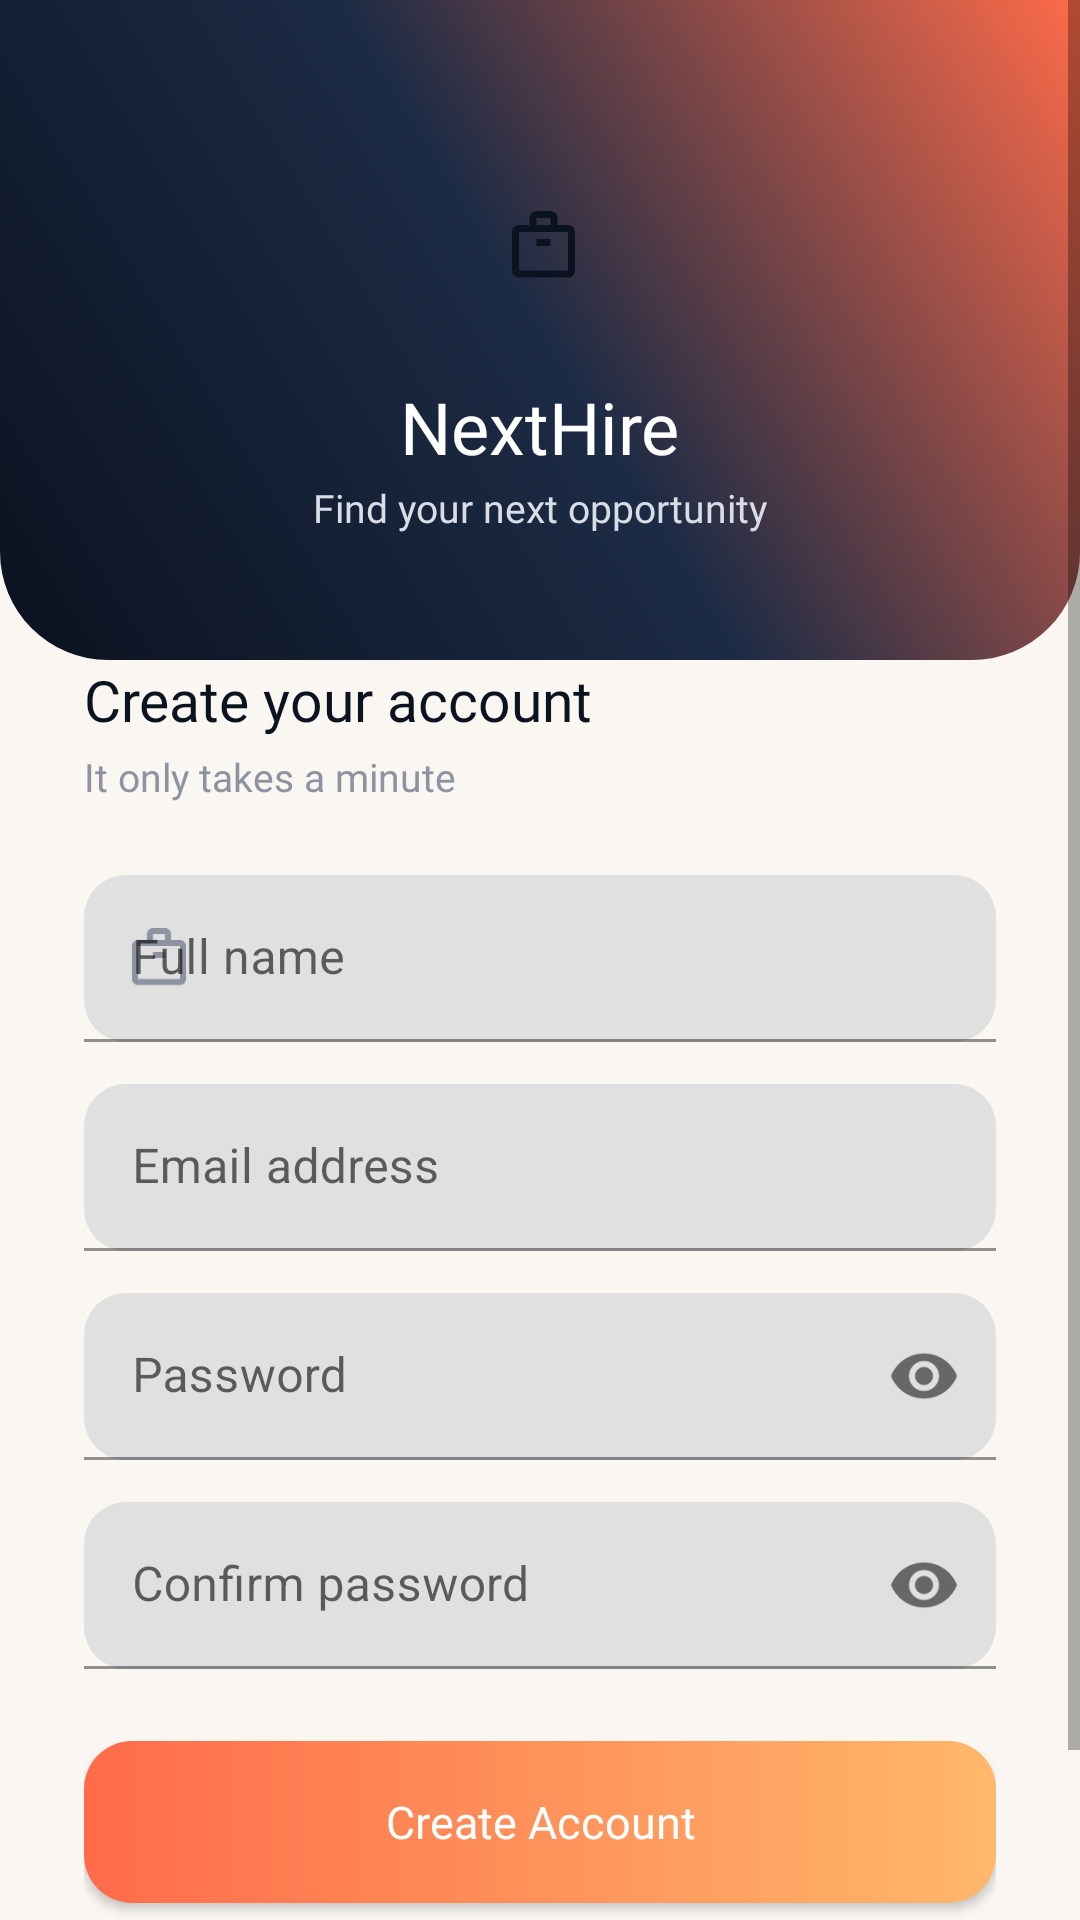

Named icons in this screenshot (1080px x 1920px) and their centers, (x,y):
briefcase: (547,240)
